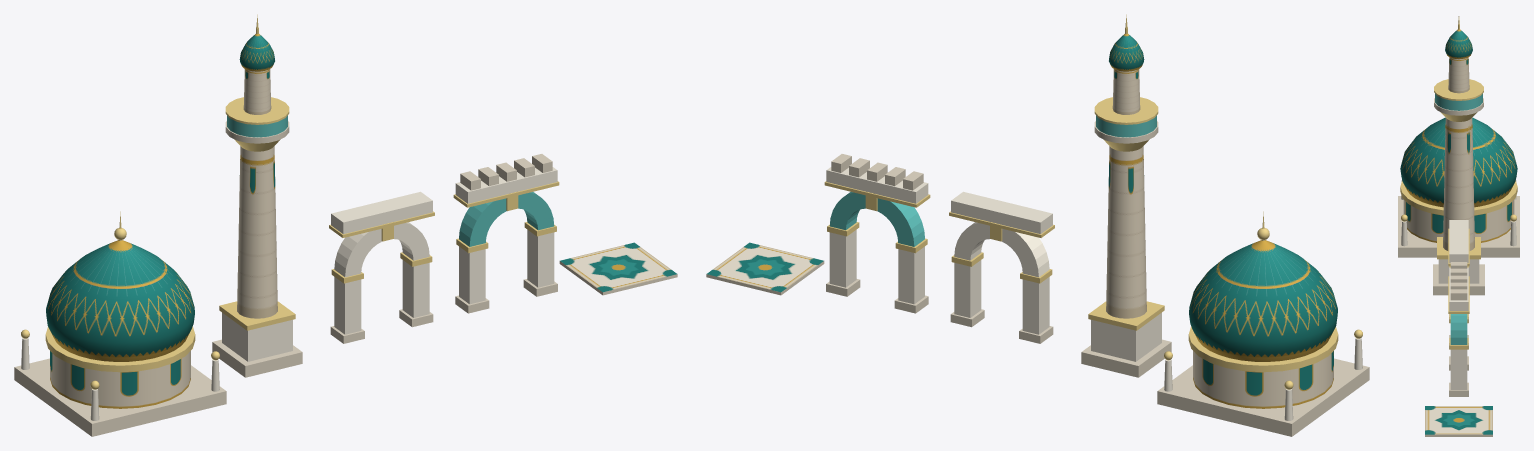
File: kit-1-masjid-quarter.glb
The picture shows the model from 3 angles, left to right: view 1: azimuth 30°, elevation 25°; view 2: azimuth 150°, elevation 25°; view 3: azimuth 270°, elevation 25°; orthographic projection. The views are drawn at different scales.
Parts seen in each view (by area): view 1: Masjid_Dome, Masjid_Minaret, Masjid_Archway_B, Masjid_Archway_A, Masjid_CourtyardTile; view 2: Masjid_Dome, Masjid_Minaret, Masjid_Archway_B, Masjid_Archway_A, Masjid_CourtyardTile; view 3: Masjid_Dome, Masjid_Minaret, Masjid_Archway_B, Masjid_CourtyardTile, Masjid_Archway_A.
Boxes of the visible parts, x1,y1,x2,y2 form: Masjid_Dome: (14,211,226,436); Masjid_Minaret: (212,14,302,377); Masjid_Archway_B: (453,154,559,313); Masjid_Archway_A: (329,191,434,343); Masjid_CourtyardTile: (559,242,677,295); Masjid_Dome: (1157,211,1369,436); Masjid_Minaret: (1081,14,1171,377); Masjid_Archway_B: (824,154,930,313); Masjid_Archway_A: (949,191,1054,343); Masjid_CourtyardTile: (706,242,824,295); Masjid_Dome: (1398,117,1519,257); Masjid_Minaret: (1433,16,1484,295); Masjid_Archway_B: (1448,262,1469,396); Masjid_CourtyardTile: (1425,406,1492,436); Masjid_Archway_A: (1448,220,1469,348).
Size of the model in its own units: 24.2 by 13.23 by 5.4.
Materials: 8 (4 with a texture image).
